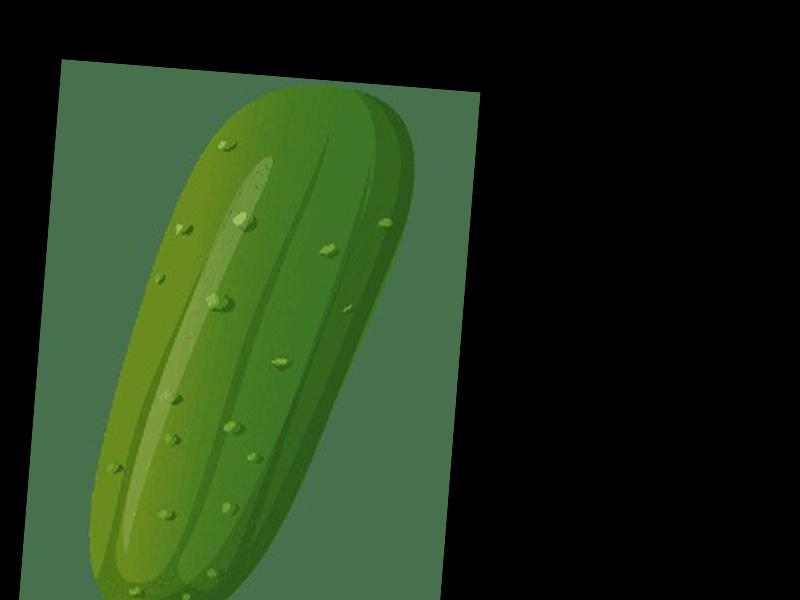Cucumber: (82, 67, 421, 600)
